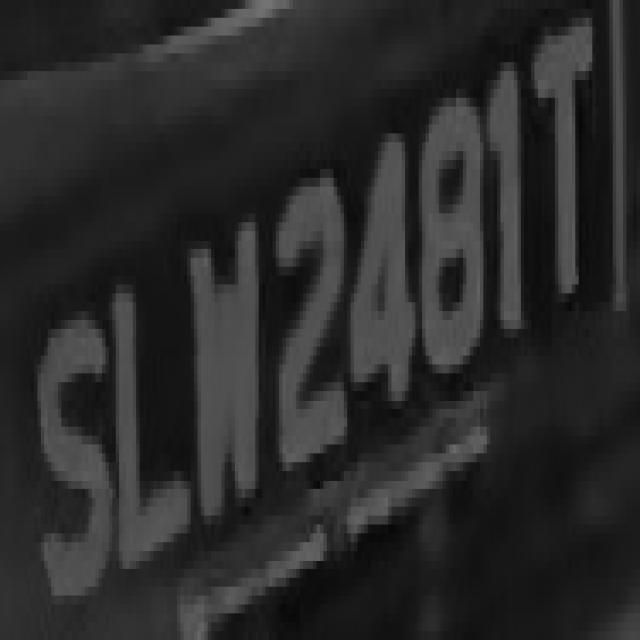1: (476, 44, 534, 400)
2: (266, 178, 350, 471)
4: (337, 134, 426, 436)
8: (409, 80, 480, 400)
L: (109, 231, 187, 578)
S: (27, 285, 109, 631)
T: (528, 26, 599, 338)
W: (180, 205, 276, 524)
